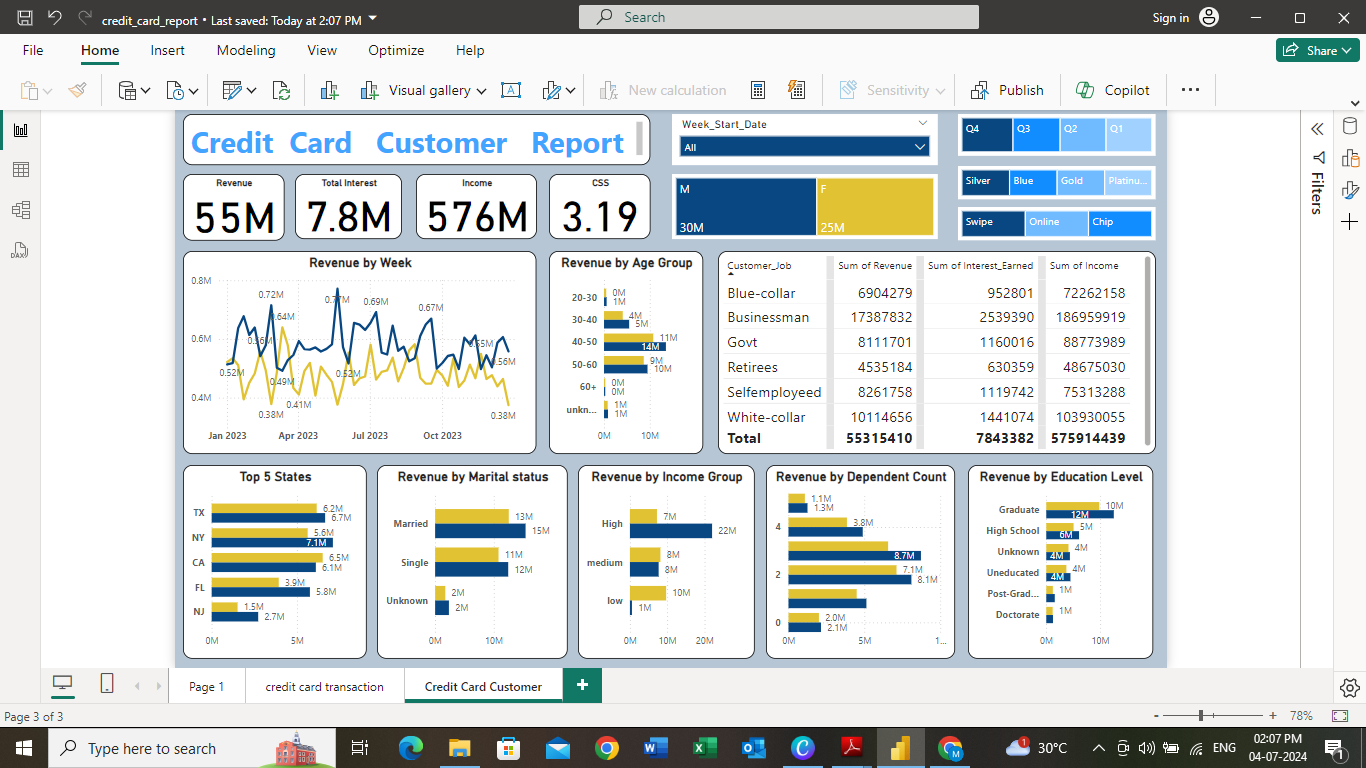

The page's visual inventory and layout, read from the dashboard file:
{"tool":"powerbi","page":{"name":"Credit Card Customer","canvas":[1280,720],"ordinal":2},"visuals":[{"type":"textbox","box":[10.8,5.4,603.2,66.4],"z":0},{"type":"clusteredBarChart","title":"Revenue by Income Group","fields":{"Y":["Sum(credit_card.Revenue)"],"Category":["customer.IncomeGroup"],"Series":["customer.Gender"]},"box":[520.6,457.8,228,249.5],"z":1000},{"type":"tableEx","fields":{"Values":["customer.Customer_Job","Sum(credit_card.Revenue)","Sum(credit_card.Interest_Earned)","Sum(customer.Income)"]},"box":[700.1,181.3,565.5,262.1],"z":2000},{"type":"card","title":"Revenue","fields":{"Values":["Sum(credit_card.Revenue)"]},"box":[10.7,82.2,130.5,85.8],"z":3000},{"type":"card","title":"Total Interest","fields":{"Values":["Sum(credit_card.Interest_Earned)"]},"box":[154.4,82.6,138.2,84.4],"z":4000},{"type":"card","title":"Income","fields":{"Values":["Sum(customer.Income)"]},"box":[310.6,82.6,156.2,84.4],"z":5000},{"type":"card","title":"CSS","fields":{"Values":["Avg(customer.Cust_Satisfaction_Score)"]},"box":[482.9,82.6,131.1,84.4],"z":6000},{"type":"slicer","fields":{"Values":["credit_card.Week_Start_Date"]},"box":[640.9,5.4,342.9,66.4],"z":7000},{"type":"treemap","fields":{"Group":["credit_card.Qtr"],"Values":["Avg(credit_card.Client_Num)"]},"box":[1010.7,5.4,254.9,53.9],"z":8000},{"type":"treemap","fields":{"Values":["Avg(credit_card.Client_Num)"],"Group":["credit_card.Card_Category"]},"box":[1010.7,71.8,254.9,43.1],"z":9000},{"type":"lineChart","title":"Revenue by Week","fields":{"Y":["Sum(credit_card.Revenue)"],"Series":["customer.Gender"],"Category":["credit_card.Week_Start_Date.Variation.Date Hierarchy.Year","credit_card.Week_Start_Date.Variation.Date Hierarchy.Month","credit_card.Week_Start_Date.Variation.Date Hierarchy.Day"]},"box":[10.8,181.3,456,262.1],"z":10000},{"type":"treemap","fields":{"Group":["customer.Gender"],"Values":["Sum(credit_card.Revenue)"]},"box":[640.9,82.6,342.9,84.4],"z":11000},{"type":"clusteredBarChart","title":"Revenue by Age Group","fields":{"Y":["Sum(credit_card.Revenue)"],"Category":["customer.AgeGroup"],"Series":["customer.Gender"]},"box":[482.9,181.3,199.3,262.1],"z":12000},{"type":"clusteredBarChart","title":"Revenue by Dependent Count","fields":{"Y":["Sum(credit_card.Revenue)"],"Category":["customer.Dependent_Count"],"Series":["customer.Gender"]},"box":[763,457.8,244.2,249.5],"z":13000},{"type":"clusteredBarChart","title":"Revenue by Education Level","fields":{"Y":["Sum(credit_card.Revenue)"],"Category":["customer.Education_Level"],"Series":["customer.Gender"]},"box":[1023.3,457.8,238.8,249.5],"z":14000},{"type":"clusteredBarChart","title":" Top 5 States","fields":{"Y":["Sum(credit_card.Revenue)"],"Category":["customer.state_cd"],"Series":["customer.Gender"]},"box":[10.8,457.8,237,249.5],"z":15000},{"type":"clusteredBarChart","title":"Revenue by Marital status","fields":{"Y":["Sum(credit_card.Revenue)"],"Category":["customer.Marital_Status"],"Series":["customer.Gender"]},"box":[260.3,457.8,245.9,249.5],"z":16000},{"type":"treemap","fields":{"Values":["Avg(credit_card.Client_Num)"],"Group":["credit_card.Use Chip"]},"box":[1010.7,125.7,254.9,43.1],"z":17000}]}

Visuals, with their boxes on the page's 1280x720 design canvas (x1, y1, x2, y2). These are canvas units, not pixel positions in the 1366x768 screenshot, which may show the page scaled, cropped or inside an application window:
textbox: BBox(11, 5, 614, 72)
"Revenue by Income Group" clusteredBarChart: BBox(521, 458, 749, 707)
tableEx - customer.Customer_Job x Sum(credit_card.Revenue): BBox(700, 181, 1266, 443)
"Revenue" card: BBox(11, 82, 141, 168)
"Total Interest" card: BBox(154, 83, 293, 167)
"Income" card: BBox(311, 83, 467, 167)
"CSS" card: BBox(483, 83, 614, 167)
slicer - credit_card.Week_Start_Date: BBox(641, 5, 984, 72)
treemap - credit_card.Qtr x Avg(credit_card.Client_Num): BBox(1011, 5, 1266, 59)
treemap - Avg(credit_card.Client_Num) x credit_card.Card_Category: BBox(1011, 72, 1266, 115)
"Revenue by Week" lineChart: BBox(11, 181, 467, 443)
treemap - customer.Gender x Sum(credit_card.Revenue): BBox(641, 83, 984, 167)
"Revenue by Age Group" clusteredBarChart: BBox(483, 181, 682, 443)
"Revenue by Dependent Count" clusteredBarChart: BBox(763, 458, 1007, 707)
"Revenue by Education Level" clusteredBarChart: BBox(1023, 458, 1262, 707)
" Top 5 States" clusteredBarChart: BBox(11, 458, 248, 707)
"Revenue by Marital status" clusteredBarChart: BBox(260, 458, 506, 707)
treemap - Avg(credit_card.Client_Num) x credit_card.Use Chip: BBox(1011, 126, 1266, 169)
